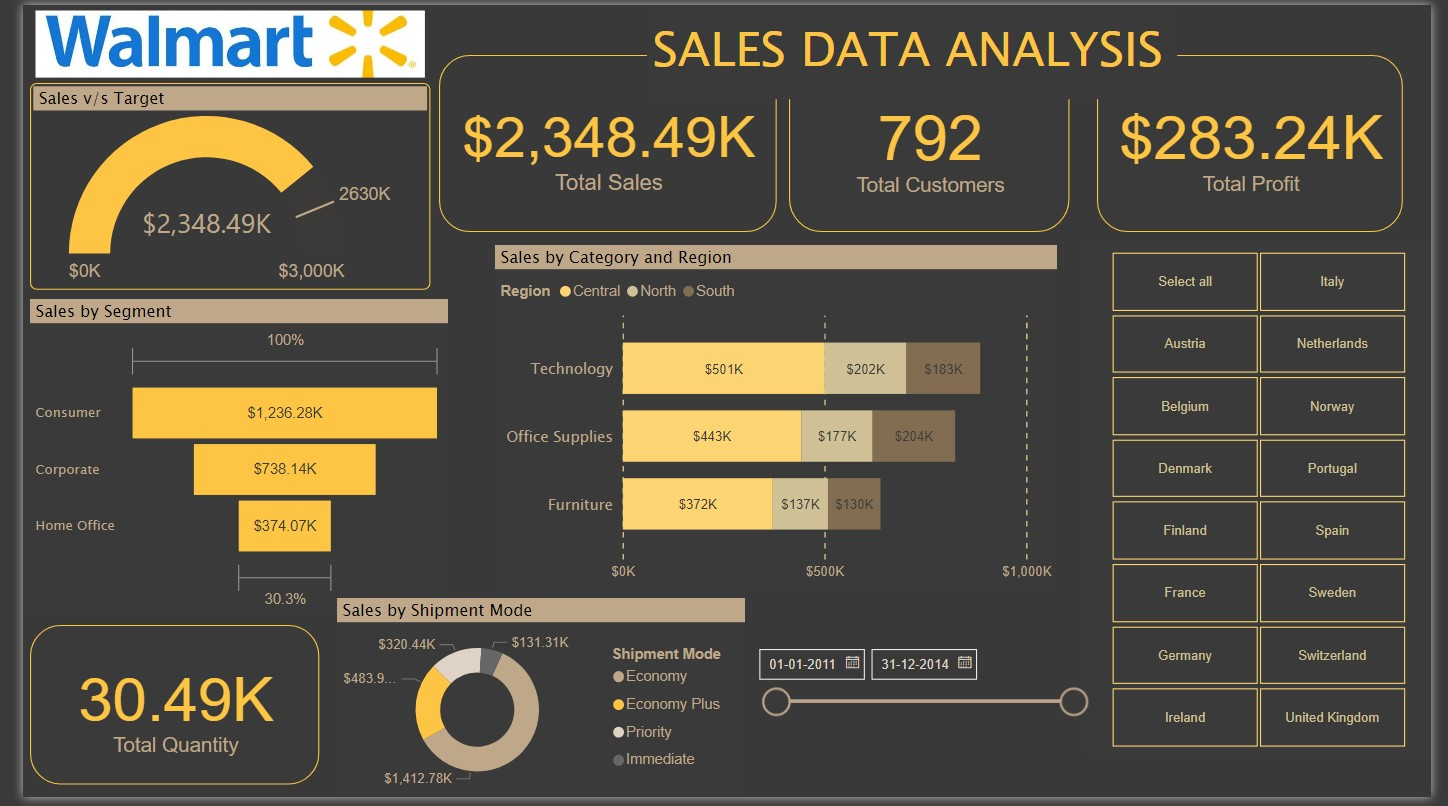

This screenshot's page, from the dashboard's own definition file:
{"tool":"powerbi","page":{"name":"Summary","canvas":[1280,720],"ordinal":0},"visuals":[{"type":"card","fields":{"Values":["Sum(walmart_sales.Sales)"]},"box":[377.7,45.2,306.8,161.4],"z":0},{"type":"card","fields":{"Values":["Count(walmart_sales.Customer Name)"]},"box":[696.1,45.2,255.4,161.4],"z":1},{"type":"card","fields":{"Values":["Sum(walmart_sales.Profit)"]},"box":[976.3,45.2,278.4,161.4],"z":2},{"type":"card","fields":{"Values":["Sum(walmart_sales.Quantity)"]},"box":[6.2,563.9,263.3,145.4],"z":3},{"type":"gauge","title":"Sales v/s Target","fields":{"Y":["Sum(walmart_sales.Sales)"],"TargetValue":["Sum(walmart_sales.target sales)"]},"box":[6.2,70.9,363.5,188],"z":5},{"type":"barChart","fields":{"Y":["Sum(walmart_sales.Sales)"],"Category":["walmart_sales.Category"],"Series":["walmart_sales.Region"]},"box":[429.2,218.1,510.7,313],"z":6},{"type":"slicer","fields":{"Values":["walmart_sales.Country"]},"box":[964.7,218.1,315.7,462.9],"z":7},{"type":"funnel","fields":{"Category":["walmart_sales.Segment"],"Y":["Sum(walmart_sales.Sales)"]},"box":[6.2,266.9,380.4,288.2],"z":8},{"type":"slicer","fields":{"Values":["walmart_sales.Order Date"]},"box":[656.2,575.5,320.1,93.1],"z":9},{"type":"donutChart","title":"Sales by Shipment Mode","fields":{"Category":["walmart_sales.Ship Mode"],"Y":["Sum(walmart_sales.Sales)"]},"box":[285.5,539.1,370.6,180.9],"z":11},{"type":"textbox","box":[567.5,3.5,482.4,82.5],"z":12},{"type":"image","box":[6.2,0,363.5,70.9],"z":13}]}

Visuals, with their boxes in screenshot pixels (x1, y1, x2, y2), scaled from the page's 1280x720 canvas onto the 1448x806 screenshot:
card - Sum(walmart_sales.Sales): x1=427 y1=51 x2=774 y2=231
card - Count(walmart_sales.Customer Name): x1=787 y1=51 x2=1076 y2=231
card - Sum(walmart_sales.Profit): x1=1104 y1=51 x2=1419 y2=231
card - Sum(walmart_sales.Quantity): x1=7 y1=631 x2=305 y2=794
"Sales v/s Target" gauge: x1=7 y1=79 x2=418 y2=290
barChart - Sum(walmart_sales.Sales) x walmart_sales.Category: x1=486 y1=244 x2=1063 y2=595
slicer - walmart_sales.Country: x1=1091 y1=244 x2=1447 y2=762
funnel - walmart_sales.Segment x Sum(walmart_sales.Sales): x1=7 y1=299 x2=437 y2=621
slicer - walmart_sales.Order Date: x1=742 y1=644 x2=1104 y2=748
"Sales by Shipment Mode" donutChart: x1=323 y1=603 x2=742 y2=805
textbox: x1=642 y1=4 x2=1188 y2=96
image: x1=7 y1=0 x2=418 y2=79
